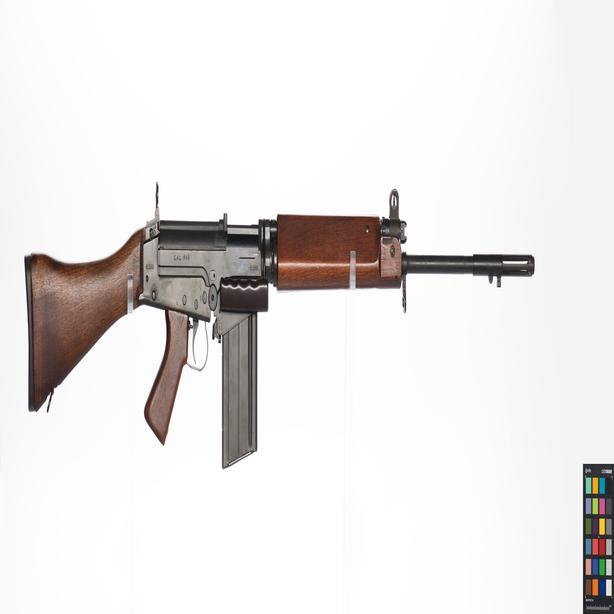Firearm: (5, 170, 564, 482)
